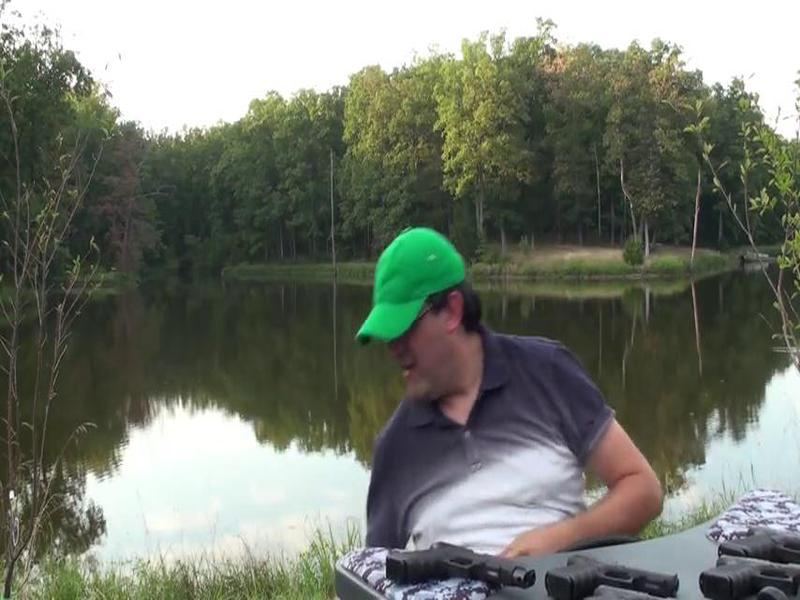Pistola: (368, 509, 531, 600), (549, 514, 676, 600)
